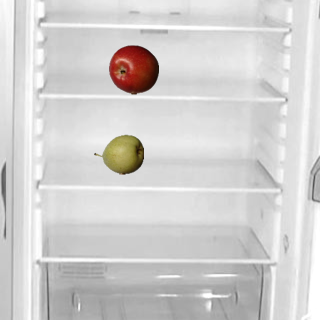Apple Braeburn: (108, 44, 158, 94)
Pear: (93, 129, 143, 179)
